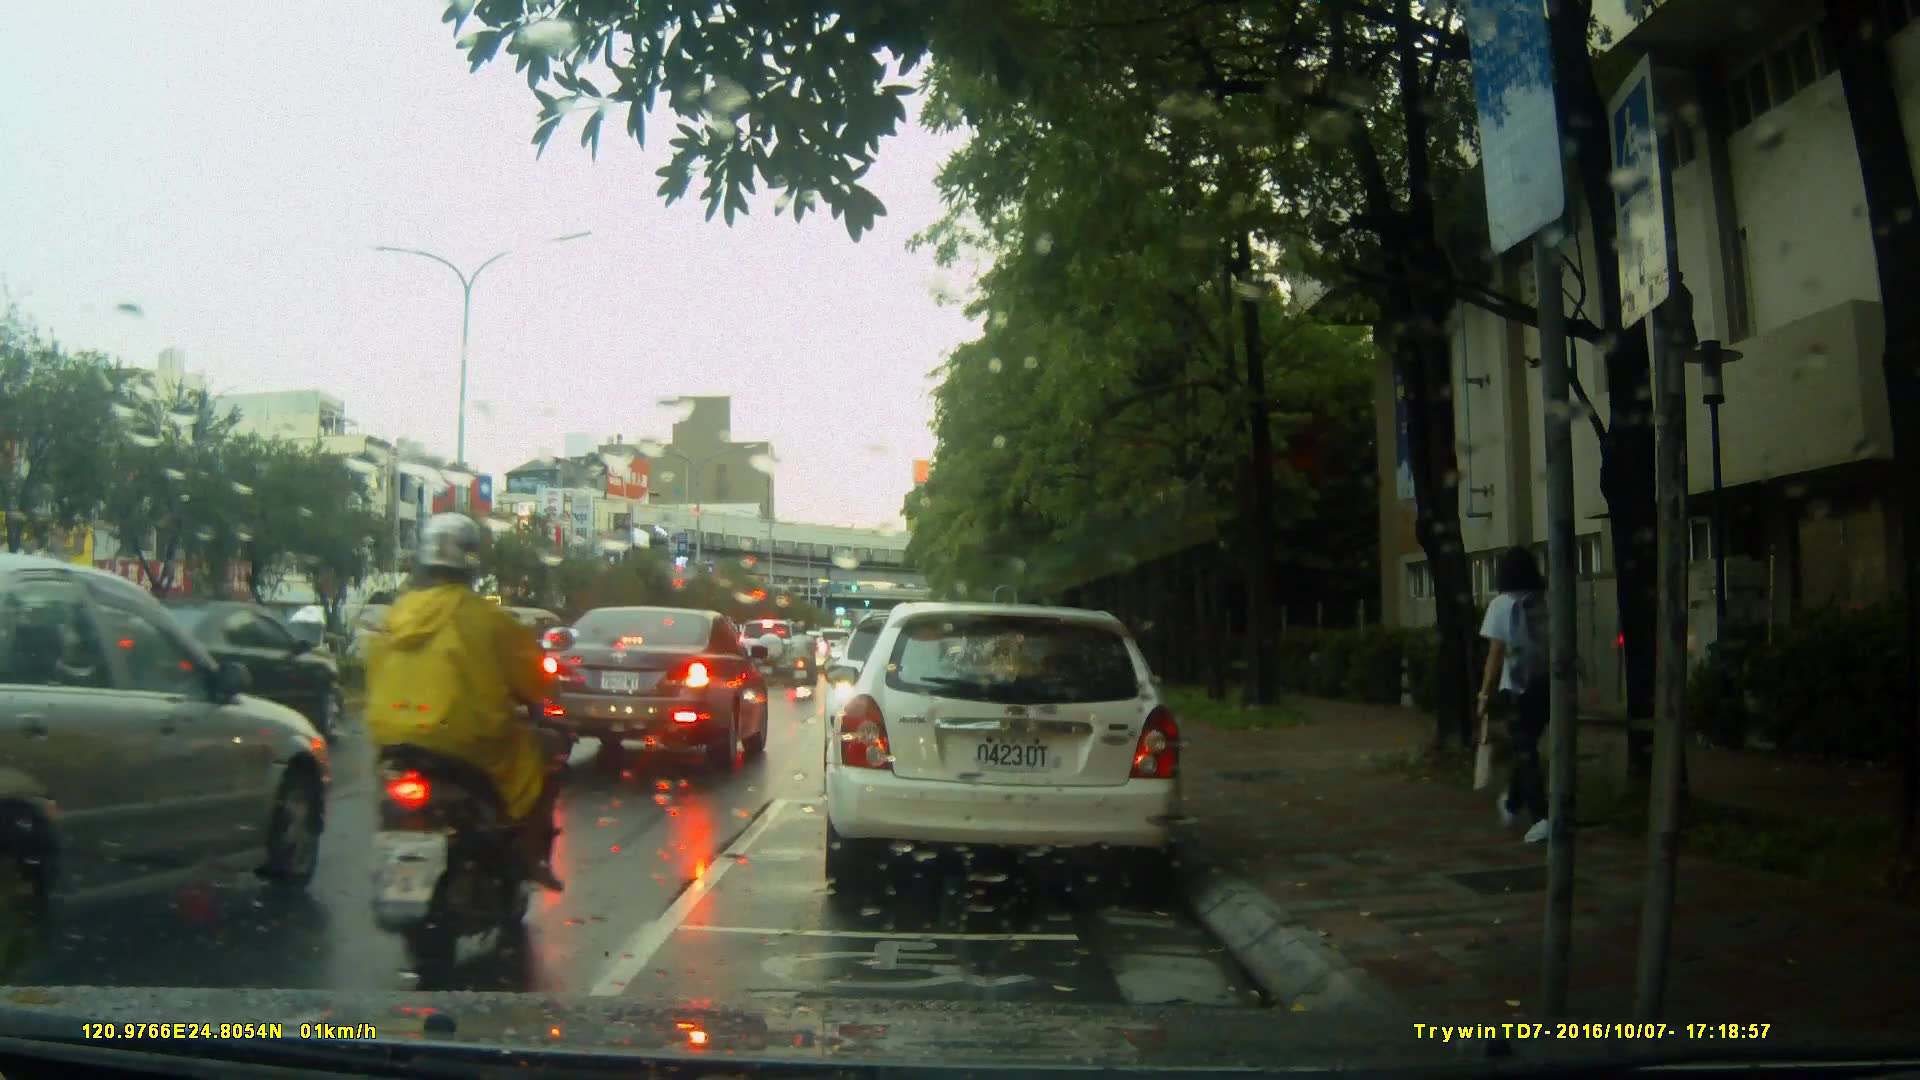pedestrian: (1454, 528, 1581, 847)
rider: (352, 512, 585, 966), (785, 617, 817, 700)
vehicle: (1, 555, 329, 985), (820, 602, 1188, 898), (61, 603, 349, 757), (527, 605, 771, 775), (734, 620, 814, 690)
